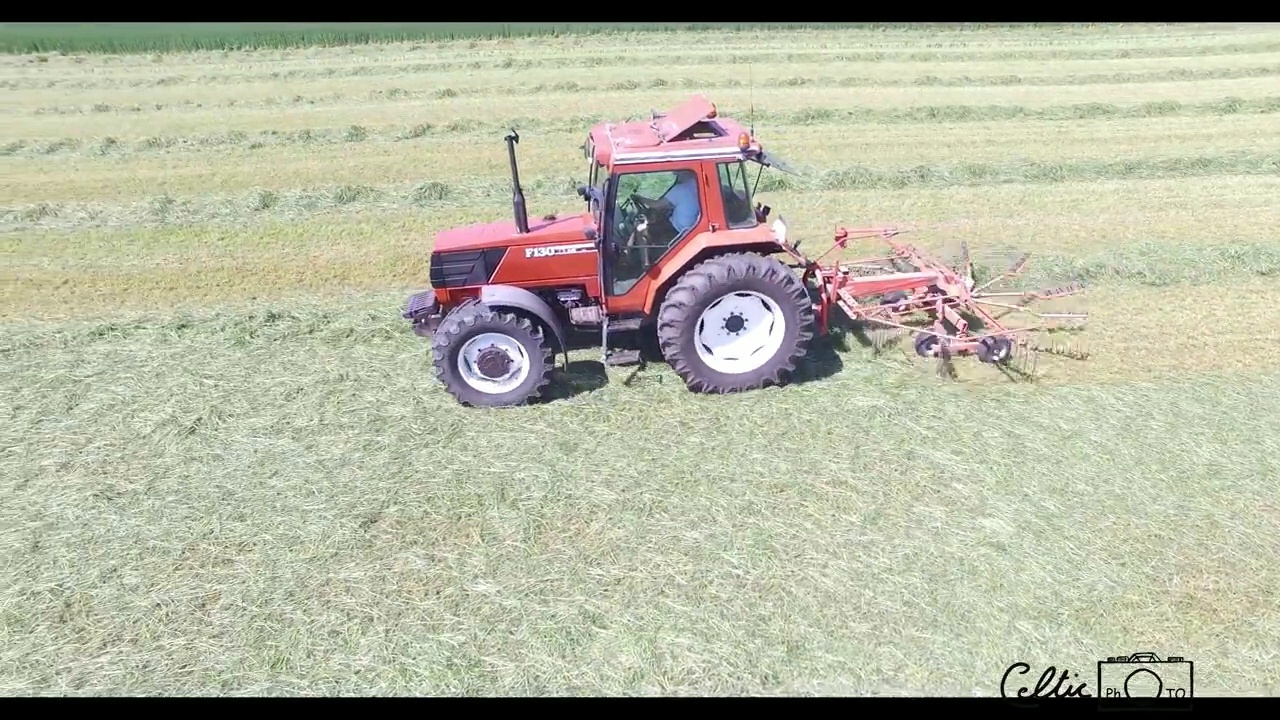traktor: (391, 95, 825, 408)
